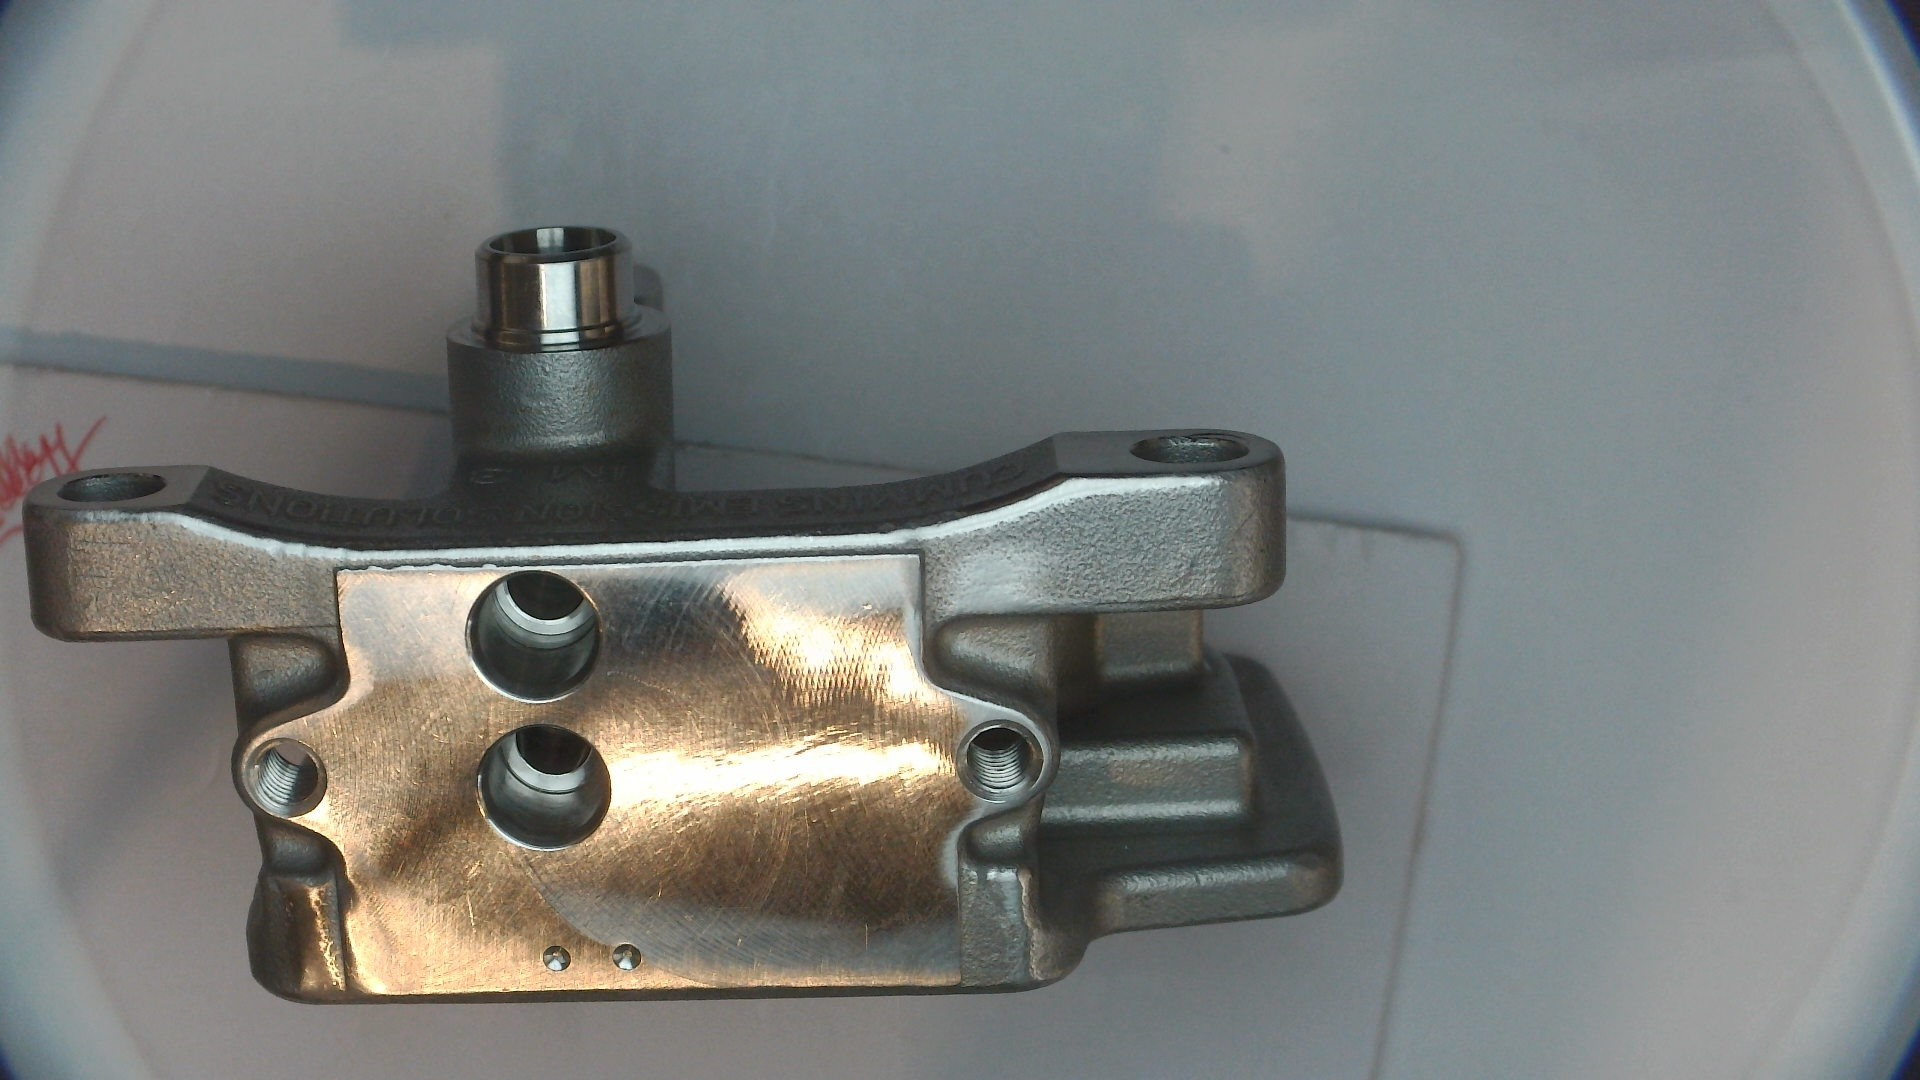thread_absence: (462, 566, 607, 705), (473, 723, 616, 855)
thread_presence: (964, 723, 1038, 796), (252, 740, 323, 808)
